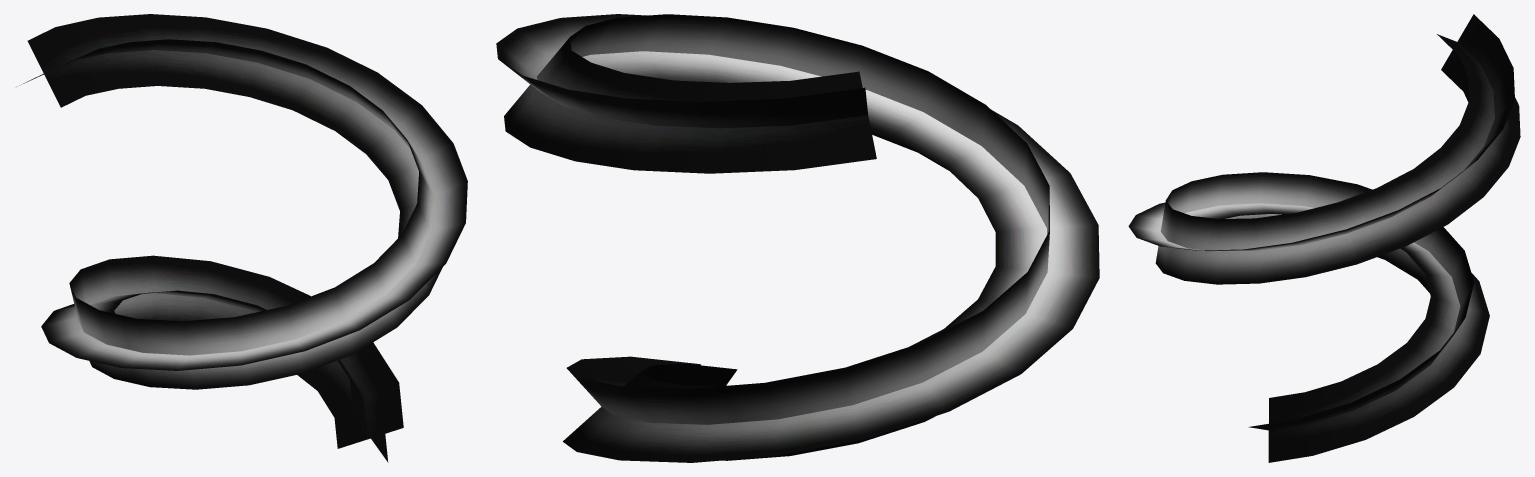
The model's file is vfx_kurp_0328.dae.
3 renders of one model, left to right at view 1: azimuth 30°, elevation 25°; view 2: azimuth 150°, elevation 25°; view 3: azimuth 270°, elevation 25°, orthographic. The views are drawn at different scales.
Parts seen in each view (by area): view 1: vfx_kurp_0328; view 2: vfx_kurp_0328; view 3: vfx_kurp_0328.
Boxes of the visible parts, <box> form: vfx_kurp_0328: <box>19,14,467,462</box>; vfx_kurp_0328: <box>496,14,1099,462</box>; vfx_kurp_0328: <box>1128,14,1520,462</box>.
Bounding box in the file's own units: 8.97 × 9.38 × 9.12.
1 material, 1 textured.
